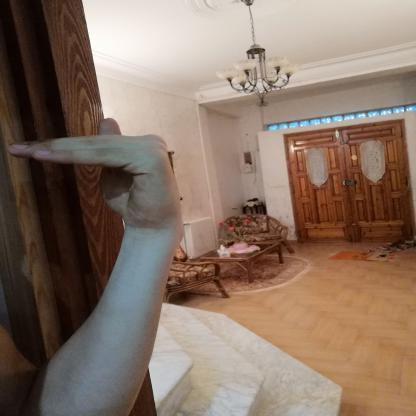KHAA: (3, 109, 198, 245)
